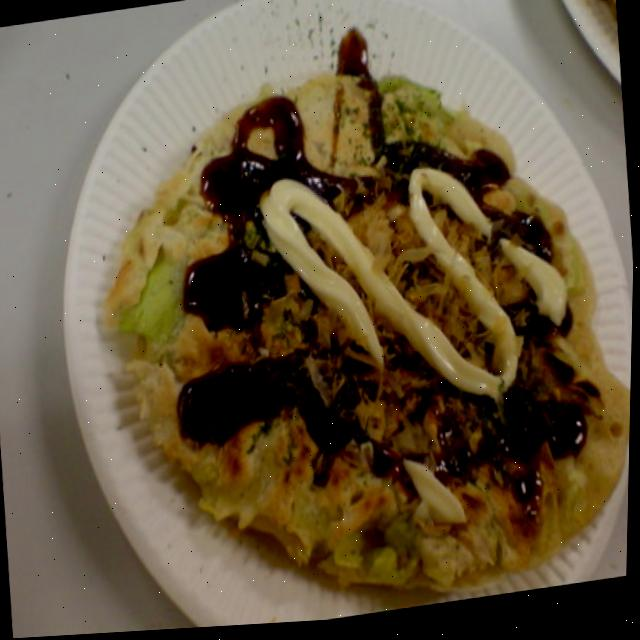蛋糕甜品: (174, 85, 638, 631)
